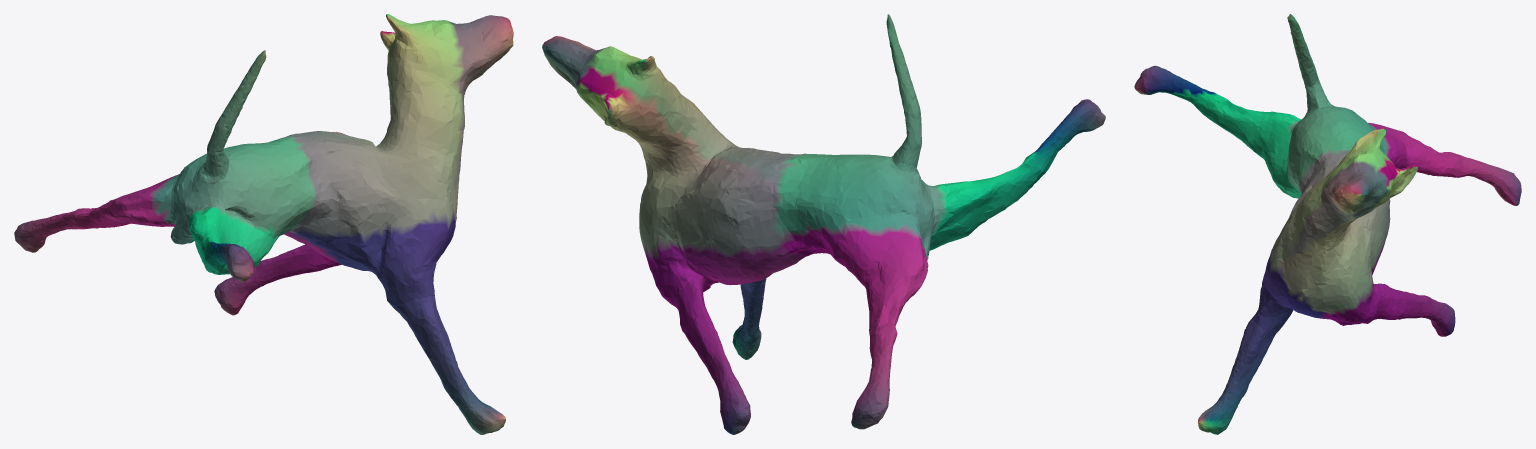
Rendered from dog2-9.off.obj.
The picture shows the model from 3 angles, left to right: view 1: azimuth 30°, elevation 25°; view 2: azimuth 150°, elevation 25°; view 3: azimuth 270°, elevation 25°; orthographic projection. The views are drawn at different scales.
Bounding box in the file's own units: 1.33 × 1.24 × 1.26.
